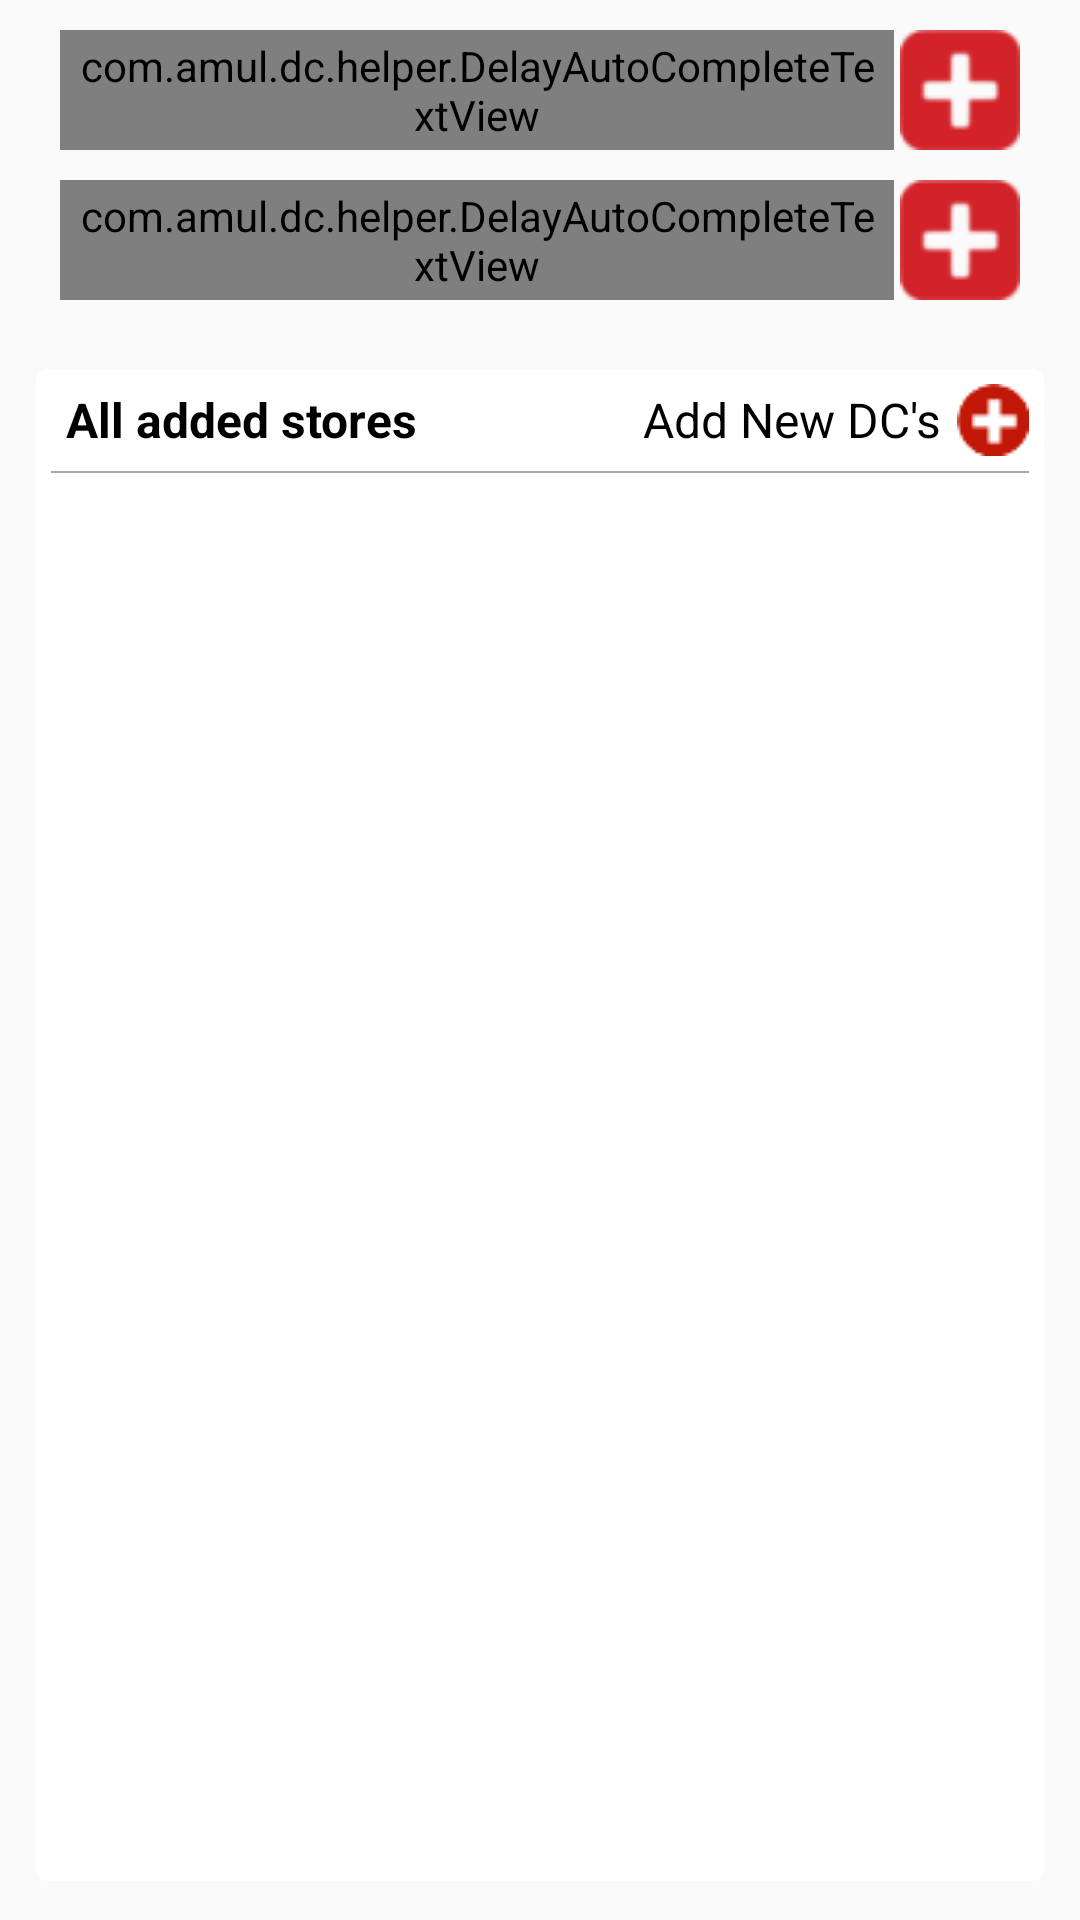

Named icons in this screenshot (1080×1920) and their bounding boxes, (x1, y1, x2, y2):
add square: (900, 30, 1020, 150), (900, 180, 1020, 300)
